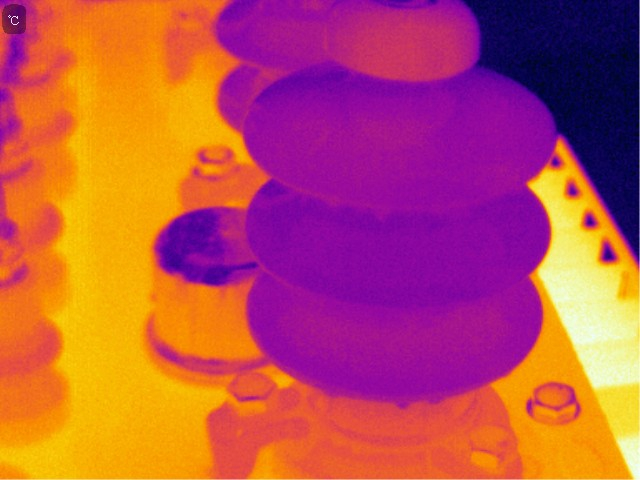Oil: (328, 2, 485, 81), (350, 94, 456, 145), (271, 103, 340, 167), (279, 179, 342, 212), (487, 164, 528, 200), (368, 205, 395, 222), (391, 397, 412, 411), (426, 392, 444, 407)
